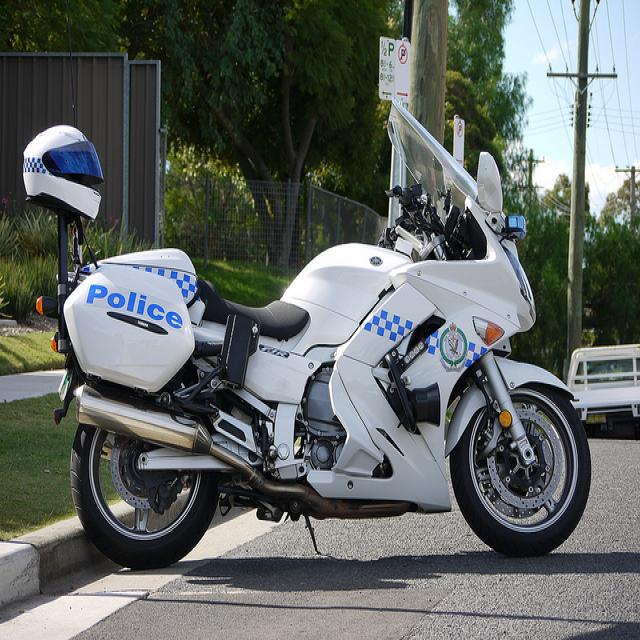motor: (23, 95, 595, 568)
